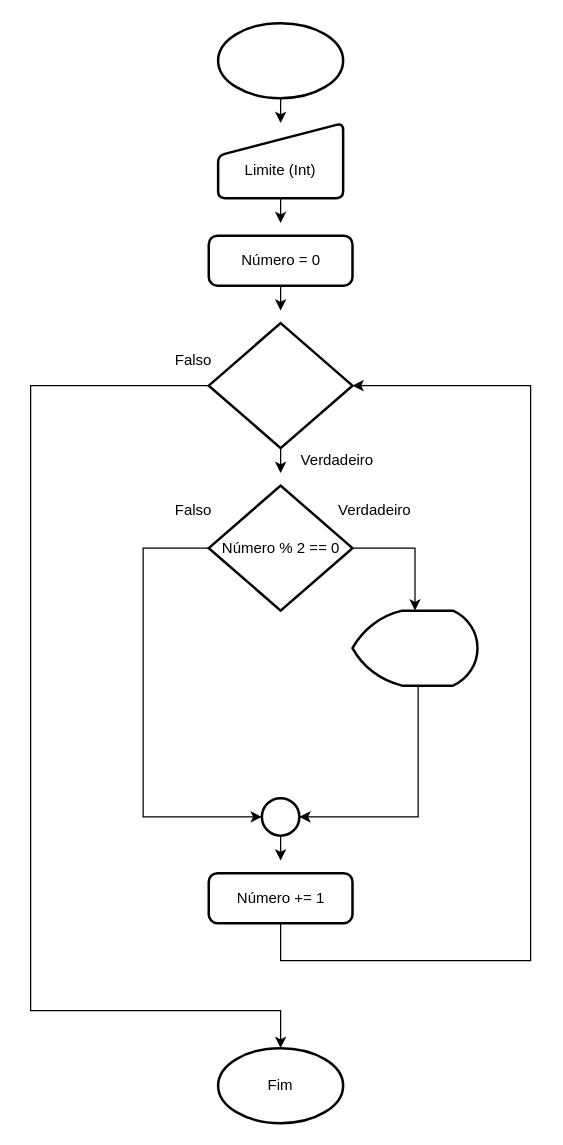
This 563x1145 diagram has some shape labels left out. The centre of each missing label's shape, as x and y in pixels:
"Início" goes at (280,60).
"Número" goes at (414,647).
"Número <= Limite" goes at (280,385).
